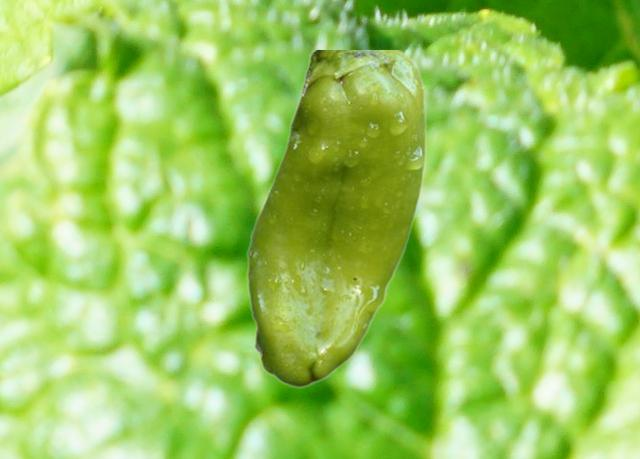green_chili: (246, 50, 425, 387)
